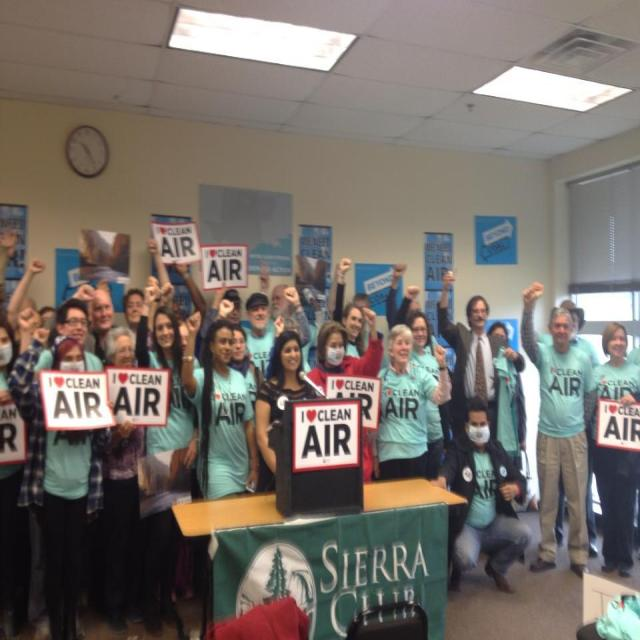gun: (528, 288, 588, 570), (29, 321, 98, 538), (451, 397, 515, 585), (318, 324, 386, 487), (596, 324, 640, 574), (378, 324, 442, 470), (146, 305, 194, 483), (439, 270, 501, 404), (202, 324, 248, 502), (259, 335, 313, 483), (0, 308, 26, 532), (340, 258, 363, 362), (78, 284, 119, 338), (400, 304, 440, 358), (244, 287, 278, 349), (104, 326, 139, 374), (63, 295, 99, 339), (564, 292, 590, 340), (118, 286, 149, 324), (234, 319, 254, 373), (275, 274, 297, 321), (493, 317, 518, 357), (222, 284, 239, 318), (356, 290, 373, 322)
